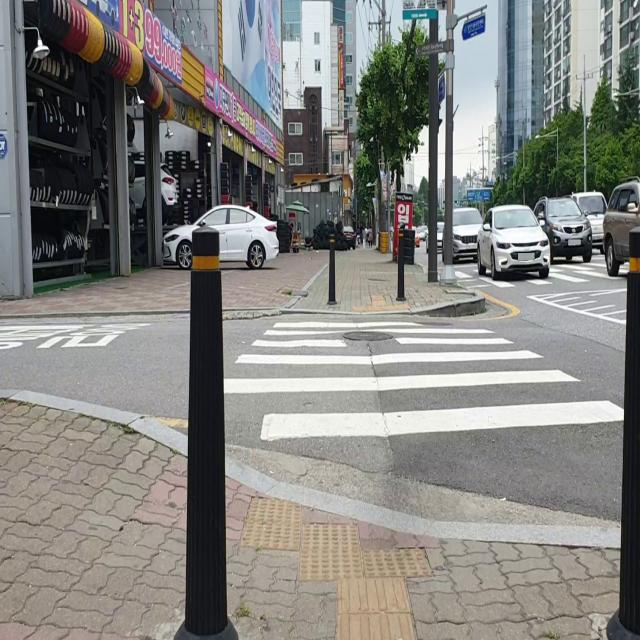횡단보도: (221, 317, 627, 443), (457, 258, 626, 288)
